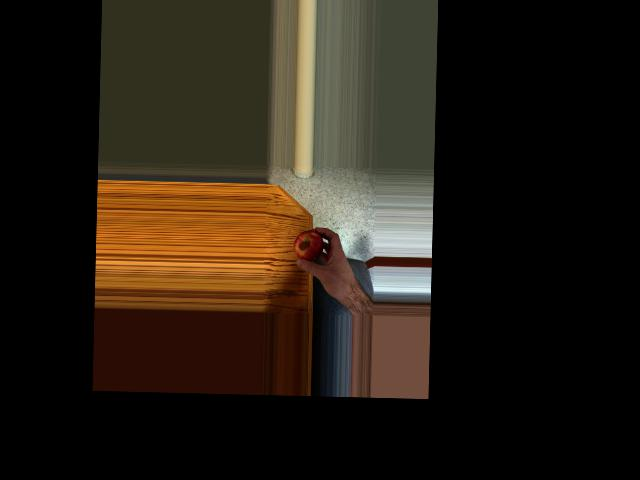apple: (293, 228, 324, 265)
